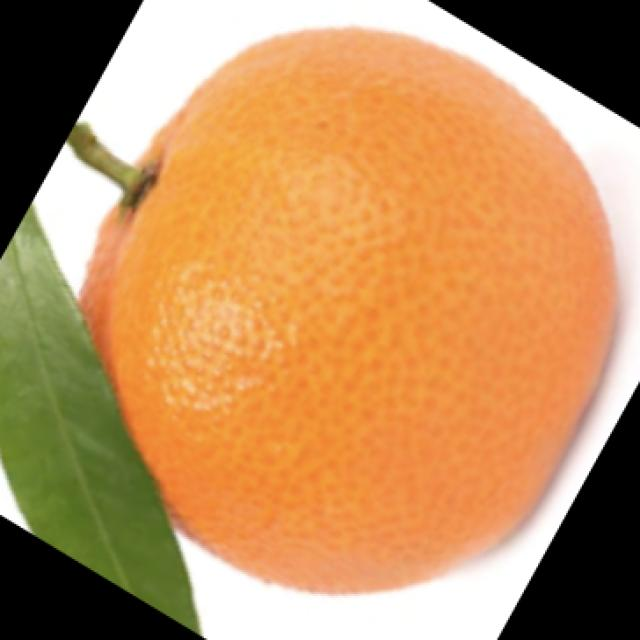matang: (82, 30, 614, 586)
